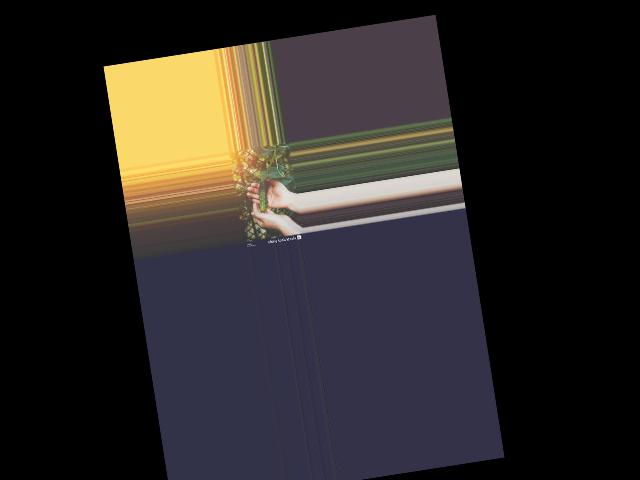cucumber: (255, 180, 271, 212)
